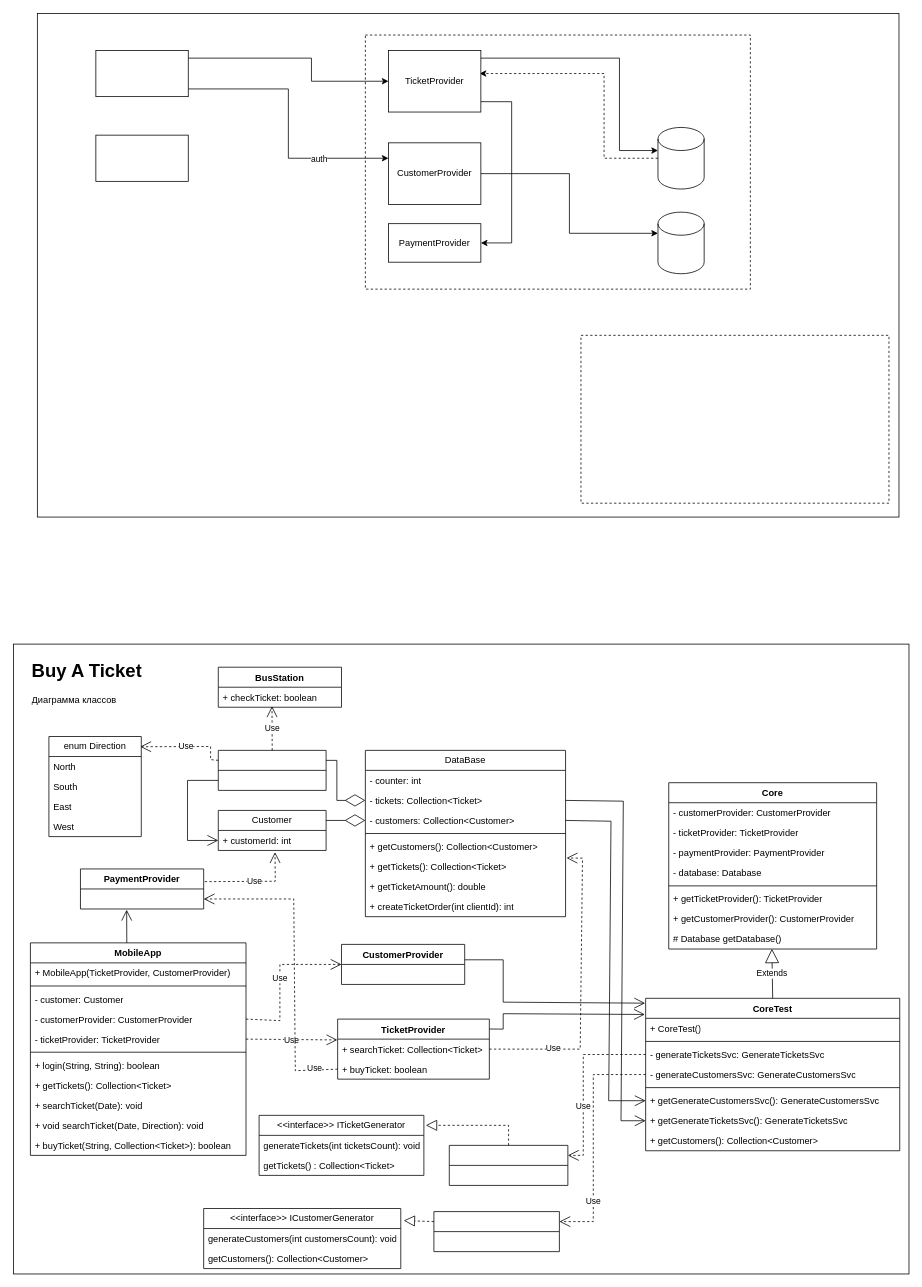
The diagram is 922 pixels wide and 1287 high, and some of its shapes have lost their labels. The shapes that lost their labels are listed below. From the top down, each one's centre as x and y in pixels, then its label:
At pixel 141 73: "Mobile app".
At pixel 141 157: "We app".
At pixel 680 158: "DB tickets".
At pixel 680 242: "DB clients".
At pixel 734 419: "Bus staton".
At pixel 272 770: "Ticket".
At pixel 508 1165: "GenerateTicketsSvc".
At pixel 496 1231: "GenerateCustomersSvc".
